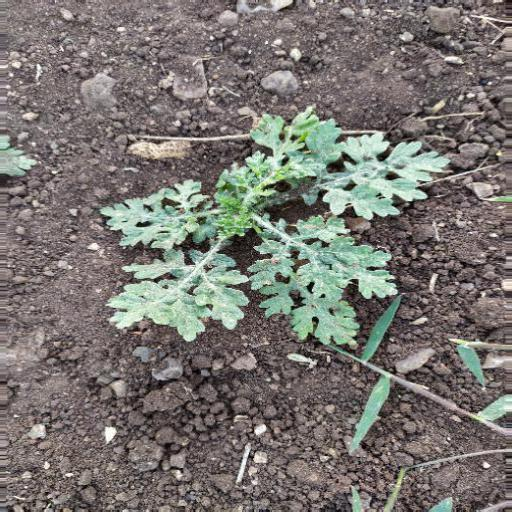weed: (101, 104, 452, 357)
